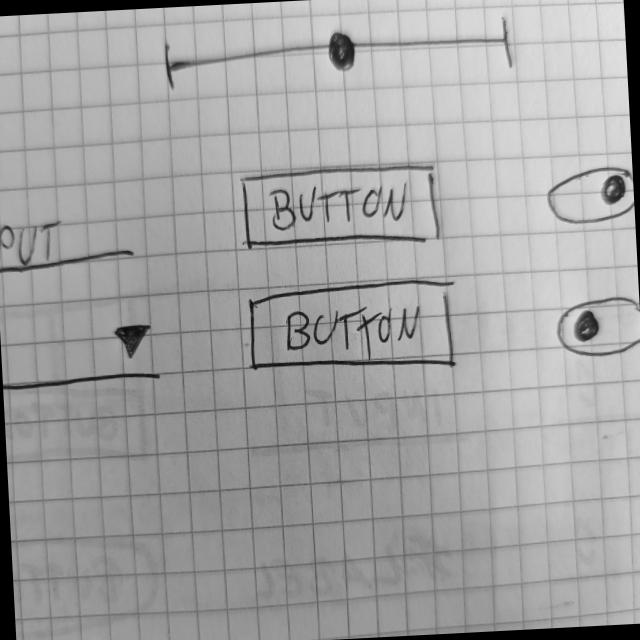button: (240, 276, 458, 376), (238, 160, 443, 256)
input: (0, 205, 138, 280)
select: (0, 314, 165, 401)
slider: (158, 11, 522, 97)
toggle: (544, 162, 636, 228), (552, 292, 640, 359)
